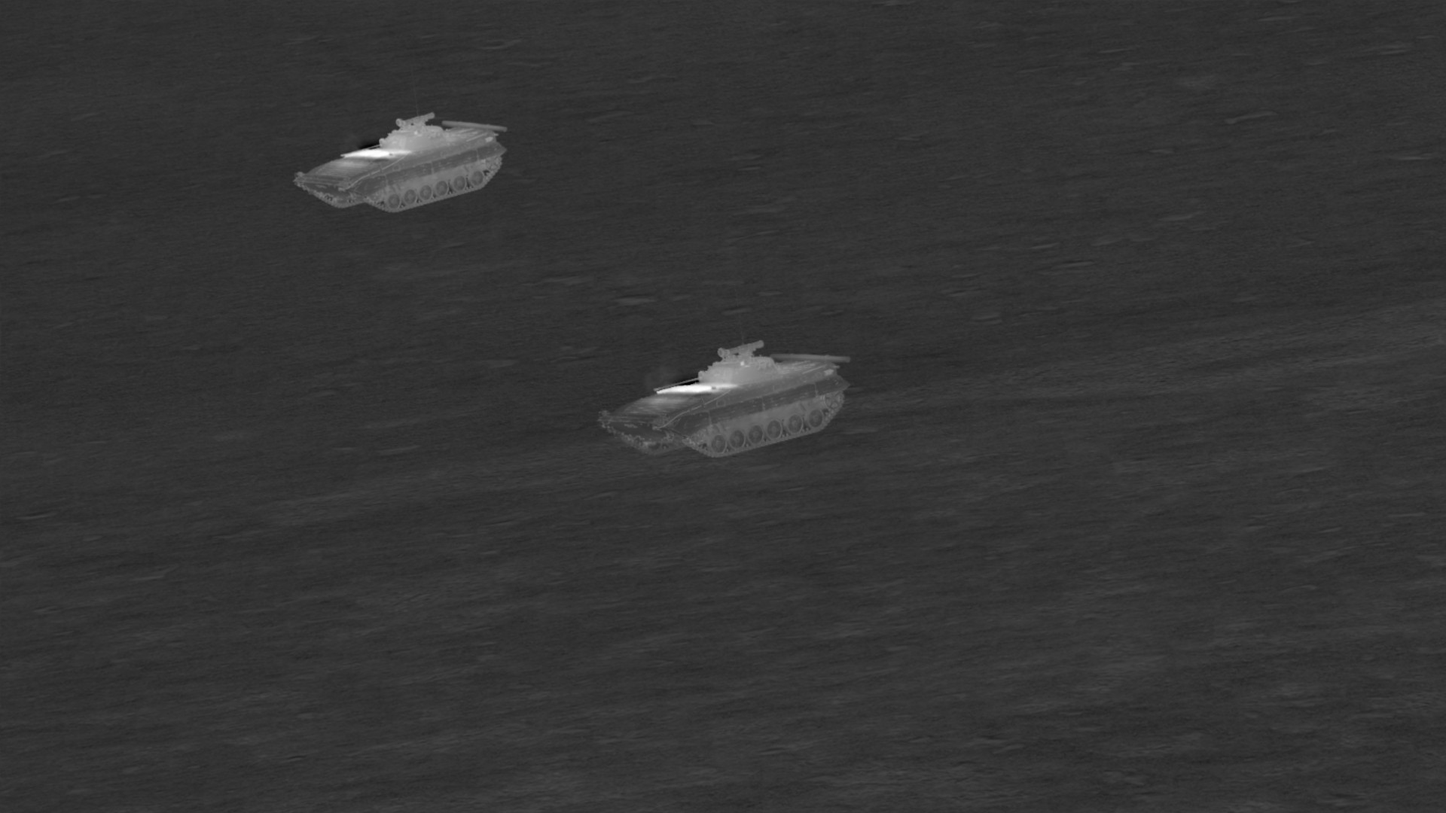bmp2: (595, 340, 848, 459), (296, 111, 508, 210)
